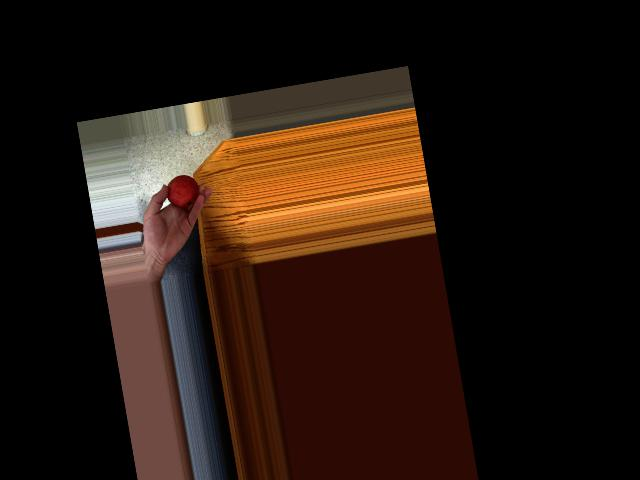apple: (163, 171, 202, 214)
